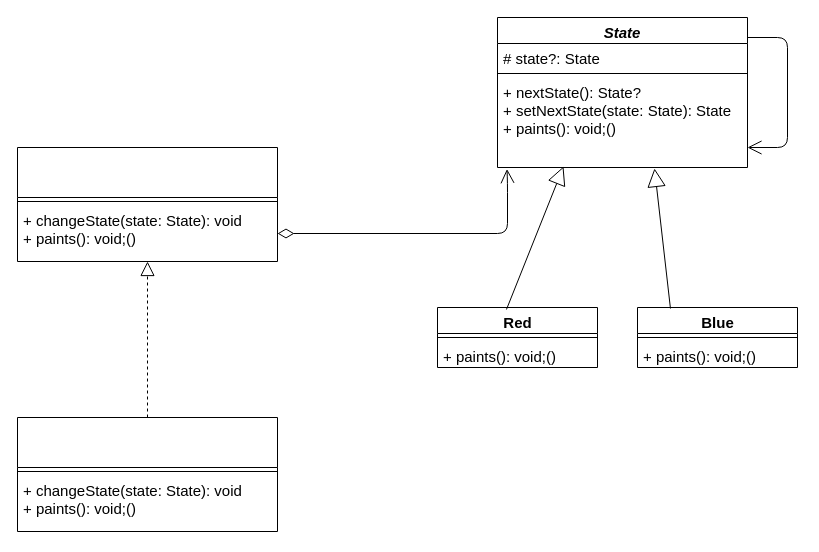
The diagram is 819 pixels wide and 552 high, and some of its shapes have lost their labels. Here are the shapes that lost their labels. From the top down, the box of each, then its label:
(16, 146, 278, 262): Interface Context
(16, 416, 278, 532): ColorTractor
